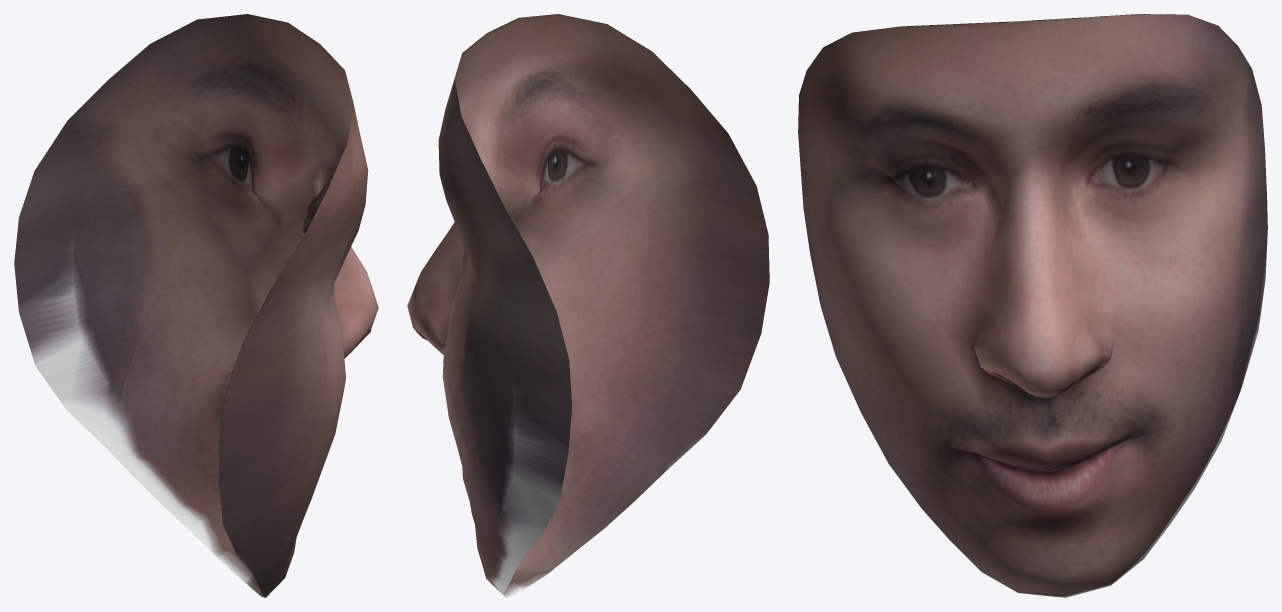
The model's file is twitch_gameplay.glb.
3 renders of one model, left to right at view 1: azimuth 30°, elevation 25°; view 2: azimuth 150°, elevation 25°; view 3: azimuth 270°, elevation 25°, orthographic. The views are drawn at different scales.
Parts seen in each view (by area): view 1: twitch_gameplay; view 2: twitch_gameplay; view 3: twitch_gameplay.
Boxes of the visible parts, <box> form: twitch_gameplay: <box>14,14,378,597</box>; twitch_gameplay: <box>407,14,769,597</box>; twitch_gameplay: <box>798,14,1267,597</box>.
Size of the model in its own units: 0.4194 by 0.8365 by 0.5846.
1 material, 1 textured.
